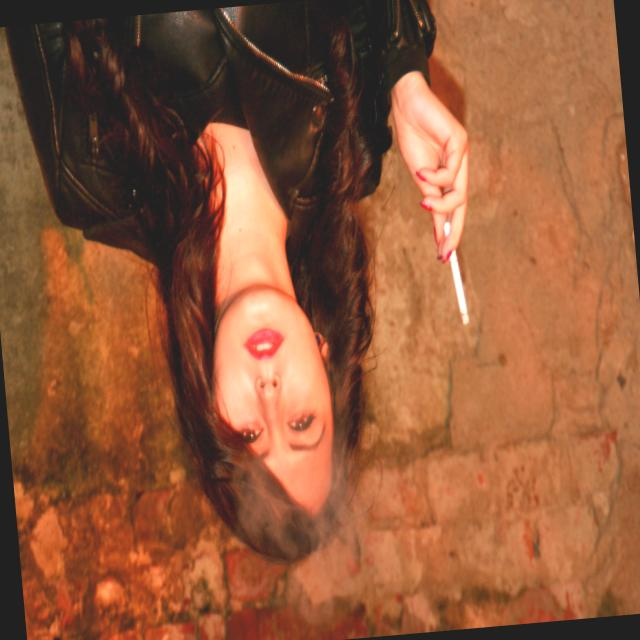cigarette: (429, 214, 481, 339)
